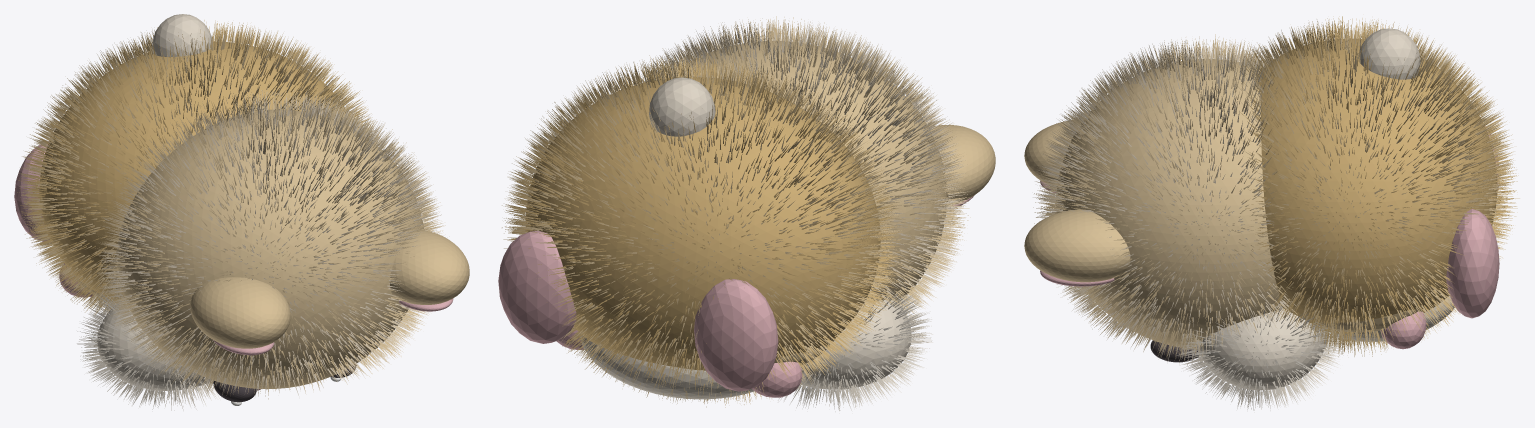
The model's file is ginger-v5.glb.
3 renders of one model, left to right at view 1: azimuth 30°, elevation 25°; view 2: azimuth 150°, elevation 25°; view 3: azimuth 270°, elevation 25°, orthographic. The views are drawn at different scales.
Parts seen in each view (by area): view 1: Head_Golden, Head_individual_strands, Body_Golden, Body_individual_strands, Ear_L, Ear_R, CheekL_individual_strands, Cheek_L, Tail, Foot_L, Eye_L; view 2: Body_Golden, Body_individual_strands, Head_individual_strands, Head_Golden, Foot_L, Foot_R, Cheek_L, CheekL_individual_strands, Belly_Cream, Tail, Ear_L, Hand_L; view 3: Body_Golden, Head_Golden, Body_individual_strands, Head_individual_strands, Cheek_R, Ear_R, CheekR_individual_strands, Foot_R, Tail, Ear_L, Hand_R, Arm_R (+2 smaller).
Boxes of the visible parts, box(x1,y1,x2,y2) form: Head_Golden: box(116, 109, 423, 389); Head_individual_strands: box(95, 88, 447, 399); Body_Golden: box(39, 41, 352, 303); Body_individual_strands: box(17, 20, 383, 317); Ear_L: box(190, 277, 290, 348); Ear_R: box(389, 229, 469, 304); CheekL_individual_strands: box(77, 288, 219, 410); Cheek_L: box(97, 301, 209, 390); Tail: box(152, 14, 212, 56); Foot_L: box(14, 141, 49, 241); Eye_L: box(213, 381, 256, 402); Body_Golden: box(525, 76, 880, 370); Body_individual_strands: box(502, 53, 904, 407); Head_individual_strands: box(632, 16, 970, 316); Head_Golden: box(669, 40, 946, 302); Foot_L: box(694, 279, 778, 391); Foot_R: box(498, 230, 576, 343); Cheek_L: box(800, 299, 911, 389); CheekL_individual_strands: box(778, 286, 932, 411); Belly_Cream: box(580, 335, 754, 399); Tail: box(649, 77, 715, 136); Ear_L: box(931, 125, 995, 206); Hand_L: box(752, 361, 802, 397); Body_Golden: box(1260, 38, 1497, 333); Head_Golden: box(1056, 58, 1283, 349); Body_individual_strands: box(1236, 16, 1519, 356); Head_individual_strands: box(1033, 34, 1303, 365); Cheek_R: box(1197, 309, 1327, 390); Ear_R: box(1024, 209, 1130, 282); CheekR_individual_strands: box(1175, 301, 1348, 410); Foot_R: box(1446, 209, 1499, 318); Tail: box(1358, 28, 1420, 79); Ear_L: box(1024, 120, 1073, 185); Hand_R: box(1381, 311, 1426, 349); Arm_R: box(1319, 309, 1417, 332).
Size of the model in its own units: 2.01 by 1.88 by 2.52.
